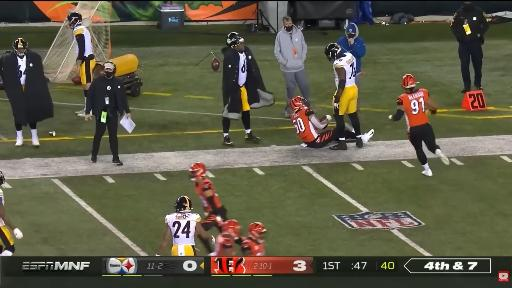Helmet: (324, 43, 342, 62), (248, 223, 266, 240), (222, 220, 239, 238), (190, 163, 206, 180), (175, 196, 192, 212), (290, 96, 309, 110), (66, 12, 82, 28), (227, 32, 244, 47), (13, 38, 27, 55), (402, 74, 416, 88), (0, 171, 5, 185)
Jersey: (397, 89, 429, 131), (165, 213, 201, 245), (291, 108, 318, 142), (195, 178, 221, 213), (333, 53, 356, 87), (73, 26, 93, 56), (216, 233, 234, 256), (242, 238, 264, 256), (239, 52, 247, 86), (17, 56, 26, 85), (0, 189, 4, 205)
Player: (389, 74, 449, 176), (325, 43, 363, 150), (156, 196, 214, 255), (66, 12, 95, 102), (190, 163, 227, 231), (290, 96, 337, 148), (0, 189, 22, 255), (215, 220, 242, 256), (242, 223, 266, 256)
